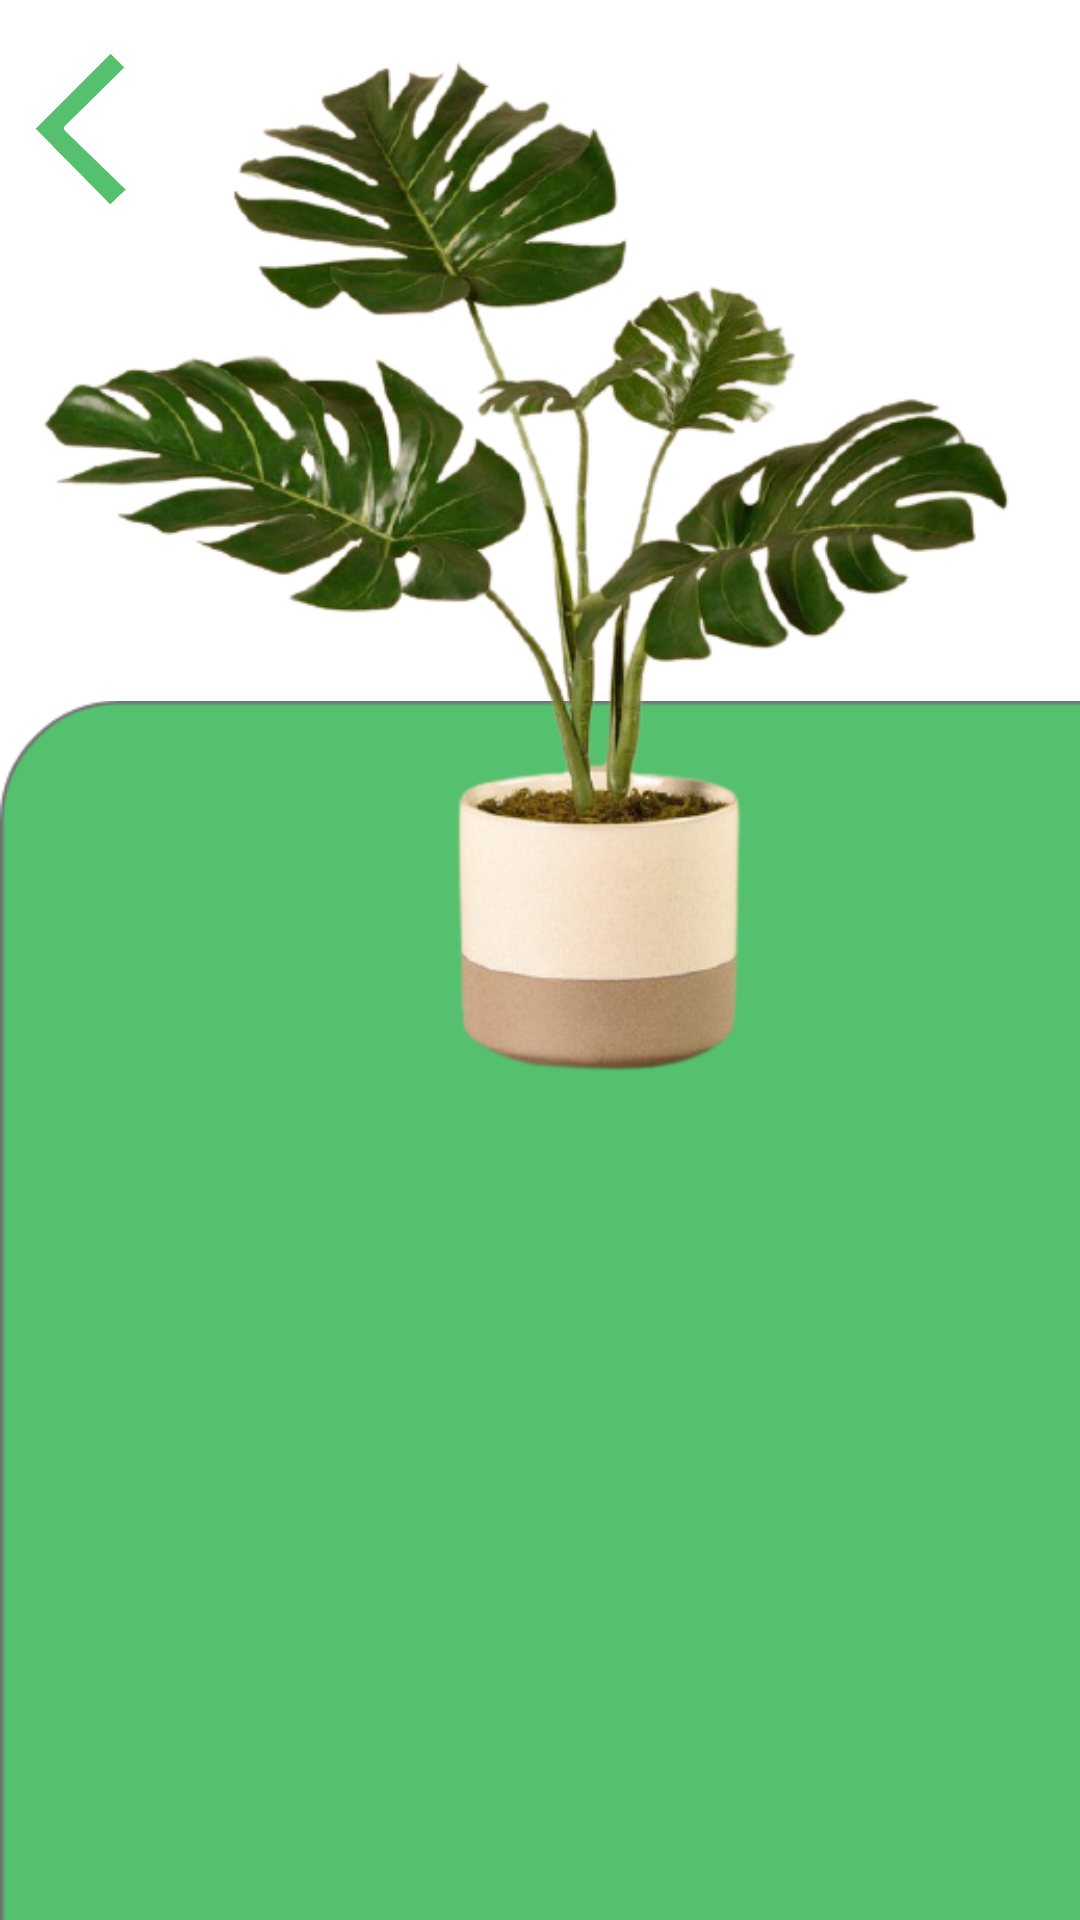

Screen size 1080×1920. Icon name, then its box in pixels as (x1, y1, x2, y2):
back: (36, 53, 126, 204)
